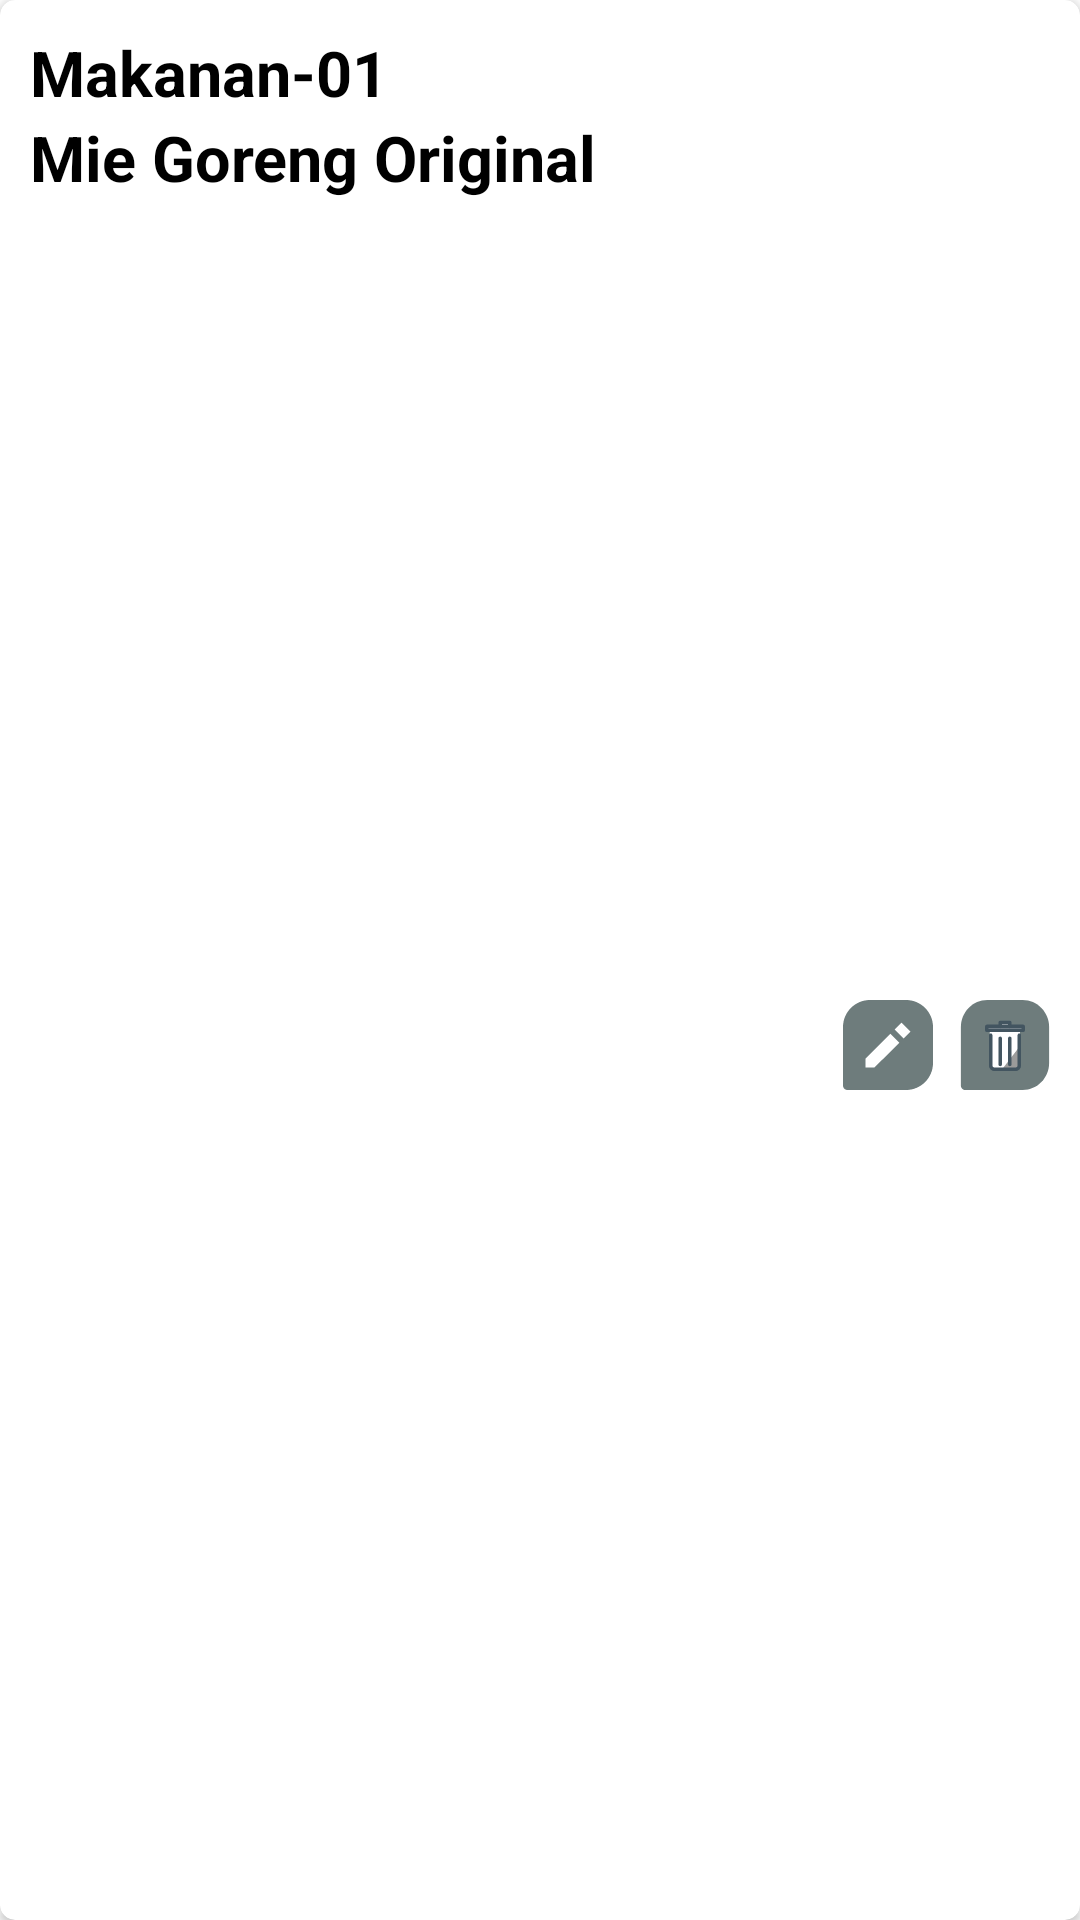

Named icons in this screenshot (1080px x 1920px) and their centers, (x,y):
edit: (888,1045)
trash: (1005,1045)
